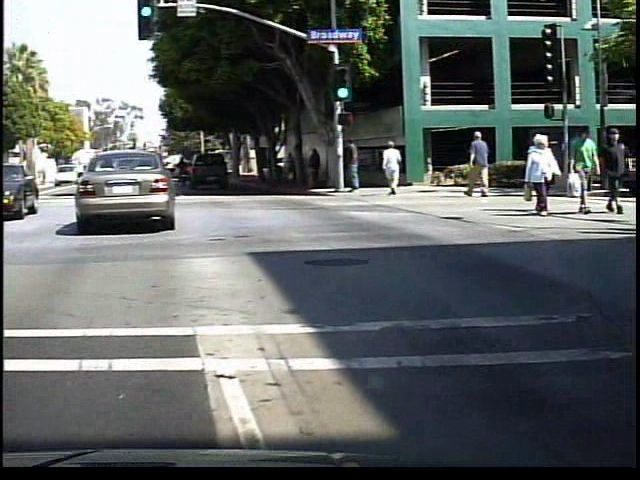person: (525, 134, 567, 216), (570, 126, 602, 217), (604, 126, 634, 214), (466, 130, 498, 198), (384, 139, 409, 199), (347, 136, 368, 200), (312, 145, 331, 191), (291, 150, 310, 190)
